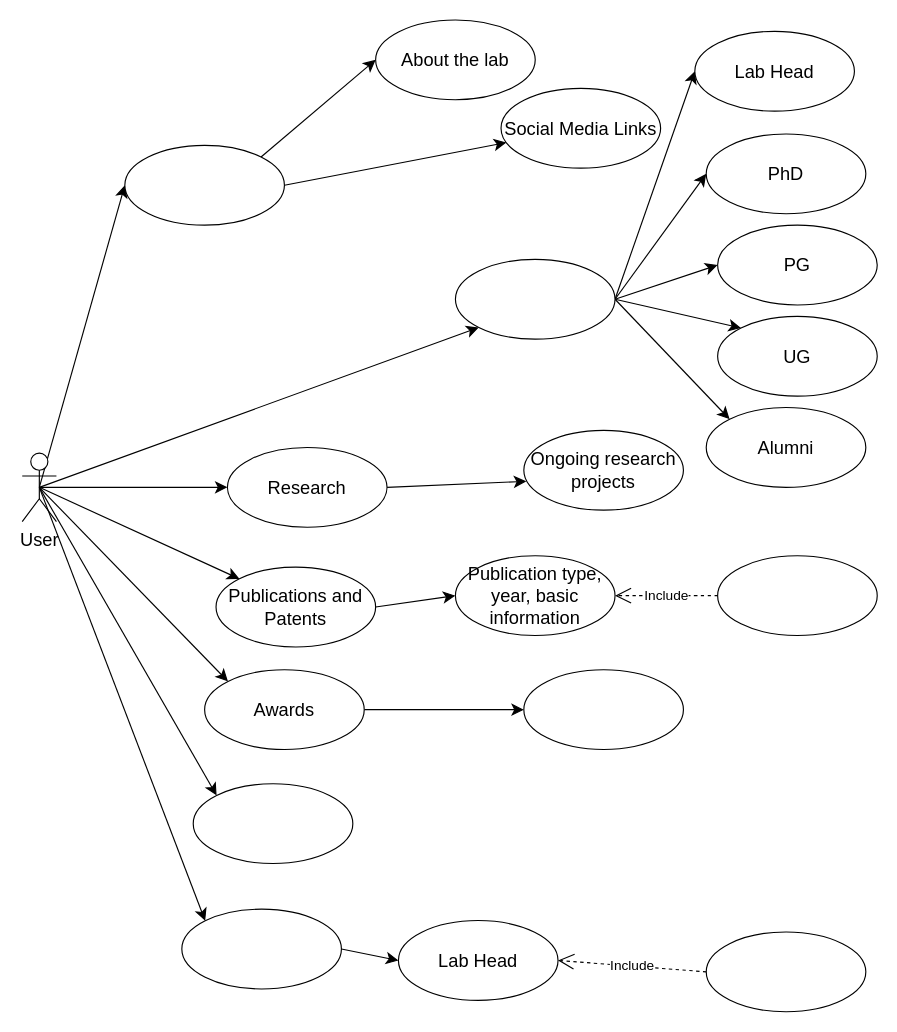
This 897x1032 diagram has some shape labels left out. The box of each missing label's shape, as (x1, y1, x2, y2) in pixels:
Award Information: (523, 669, 683, 750)
Contact Us: (181, 908, 341, 989)
Home Page: (124, 144, 284, 225)
Name, email-id, phone no.: (705, 931, 866, 1012)
News: (192, 783, 353, 864)
People: (454, 258, 615, 339)
Published paper: (716, 555, 877, 636)
